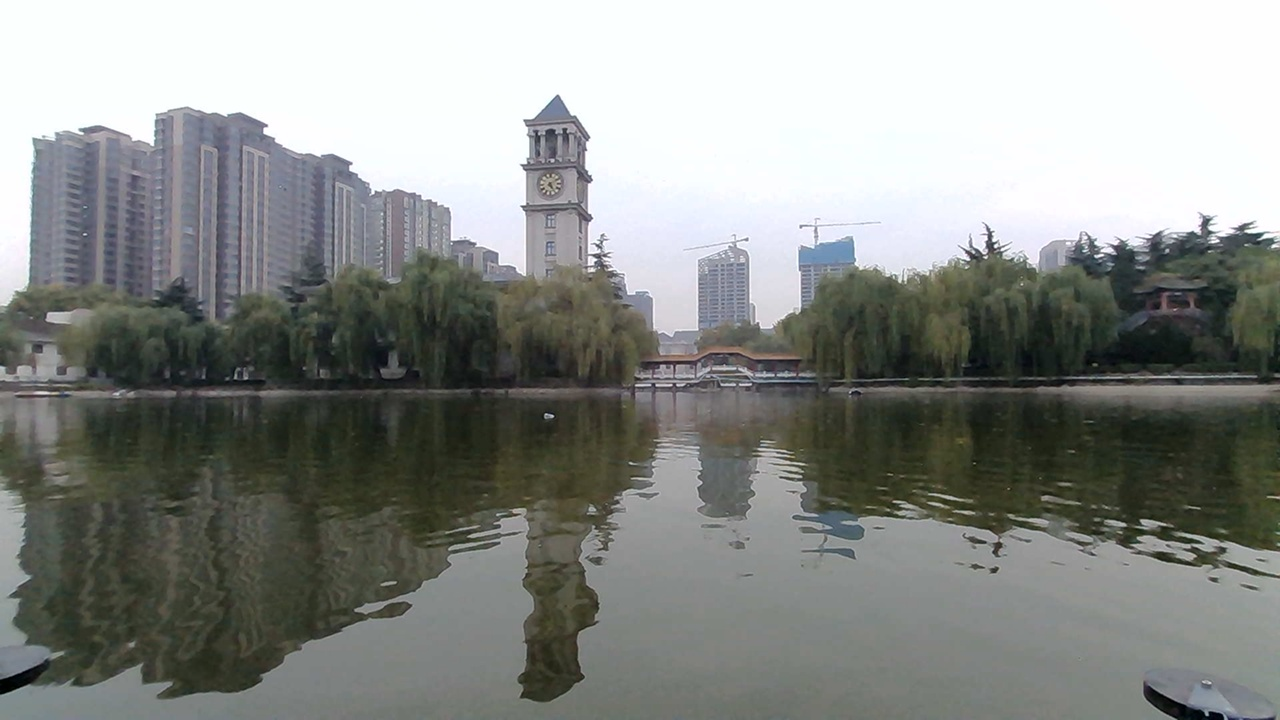bottle: (538, 405, 566, 427)
